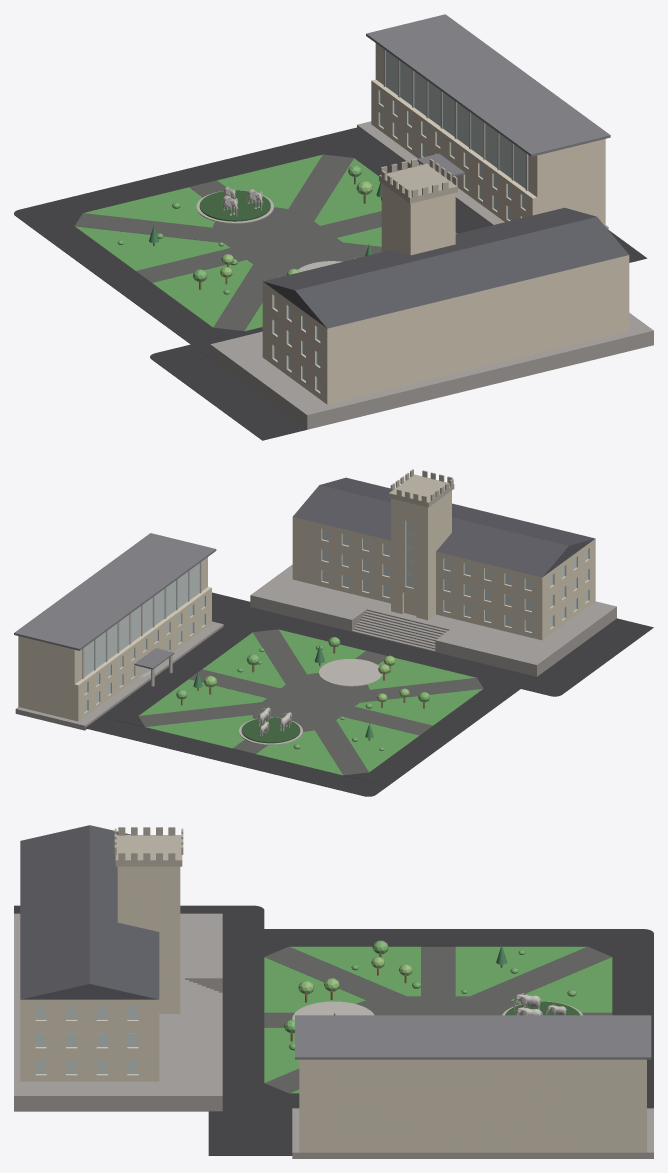
Rendered from zone2.glb.
3 renders of one model, top to bottom at view 1: azimuth 30°, elevation 25°; view 2: azimuth 150°, elevation 25°; view 3: azimuth 270°, elevation 25°, orthographic. The views are drawn at different scales.
Visible parts, largest first — view 1: Myeongjingwan_MainWall, Paljeongdo_Road_Network, Myeongjingwan_Roof, Plaza_Paths, Plaza_Grass, Buphak_Roof, Myeongjingwan_Base, Buphak, Buphak_Wall_Upper, Myeongjingwan_Tower_Shaft, Myeongjingwan_Tower_ParapetBand, Plaza_Pedestal_North.001 (+1 smaller); view 2: Paljeongdo_Road_Network, Myeongjingwan_MainWall, Plaza_Grass, Myeongjingwan_Base, Plaza_Paths, Myeongjingwan_Roof, Buphak_Roof, Buphak, Myeongjingwan_Tower_Shaft, Buphak_Wall_Upper, Buphak_Base, Plaza_Pedestal_South (+2 smaller); view 3: Paljeongdo_Road_Network, Myeongjingwan_Roof, Buphak, Buphak_Wall_Upper, Myeongjingwan_Base, Buphak_Roof, Plaza_Grass, Myeongjingwan_MainWall, Plaza_Paths, Myeongjingwan_Tower_Shaft, Buphak_Base, Myeongjingwan_Tower_ParapetBand (+1 smaller).
Boxes of the visible parts, x1=… form: Myeongjingwan_MainWall: x1=262, y1=255, x2=629, y2=404; Paljeongdo_Road_Network: x1=14, y1=127, x2=647, y2=440; Myeongjingwan_Roof: x1=263, y1=207, x2=628, y2=328; Plaza_Paths: x1=75, y1=154, x2=381, y2=330; Plaza_Grass: x1=75, y1=154, x2=457, y2=331; Buphak_Roof: x1=366, y1=14, x2=610, y2=156; Myeongjingwan_Base: x1=210, y1=313, x2=653, y2=429; Buphak: x1=371, y1=79, x2=605, y2=224; Buphak_Wall_Upper: x1=375, y1=43, x2=605, y2=197; Myeongjingwan_Tower_Shaft: x1=381, y1=183, x2=455, y2=255; Myeongjingwan_Tower_ParapetBand: x1=379, y1=163, x2=457, y2=203; Plaza_Pedestal_North.001: x1=199, y1=190, x2=270, y2=221; Paljeongdo_Road_Network: x1=85, y1=592, x2=653, y2=796; Myeongjingwan_MainWall: x1=292, y1=517, x2=595, y2=640; Plaza_Grass: x1=139, y1=629, x2=482, y2=775; Myeongjingwan_Base: x1=250, y1=564, x2=616, y2=676; Plaza_Paths: x1=138, y1=629, x2=483, y2=775; Myeongjingwan_Roof: x1=293, y1=477, x2=595, y2=577; Buphak_Roof: x1=14, y1=533, x2=216, y2=650; Buphak: x1=18, y1=587, x2=211, y2=721; Myeongjingwan_Tower_Shaft: x1=391, y1=491, x2=451, y2=620; Buphak_Wall_Upper: x1=18, y1=557, x2=207, y2=684; Buphak_Base: x1=15, y1=621, x2=223, y2=730; Plaza_Pedestal_South: x1=319, y1=659, x2=382, y2=686; Paljeongdo_Road_Network: x1=14, y1=905, x2=653, y2=1155; Myeongjingwan_Roof: x1=20, y1=825, x2=159, y2=999; Buphak: x1=299, y1=1105, x2=646, y2=1152; Buphak_Wall_Upper: x1=299, y1=1059, x2=646, y2=1105; Myeongjingwan_Base: x1=14, y1=913, x2=222, y2=1111; Buphak_Roof: x1=295, y1=1015, x2=651, y2=1059; Plaza_Grass: x1=264, y1=946, x2=612, y2=1093; Myeongjingwan_MainWall: x1=20, y1=999, x2=159, y2=1081; Plaza_Paths: x1=264, y1=946, x2=612, y2=1093; Myeongjingwan_Tower_Shaft: x1=117, y1=866, x2=180, y2=1013; Buphak_Base: x1=292, y1=1108, x2=653, y2=1158; Myeongjingwan_Tower_ParapetBand: x1=115, y1=835, x2=182, y2=866.
Size of the model in its own units: 85.6 by 29.14 by 92.
